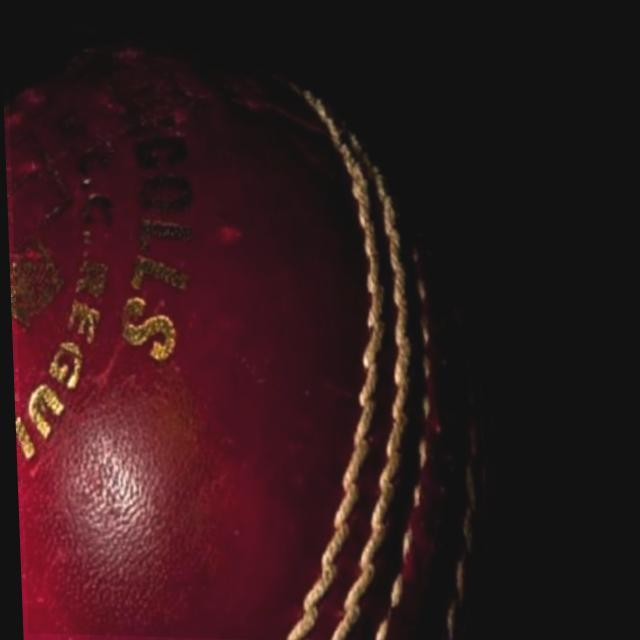Red_Ball: (0, 67, 501, 640)
